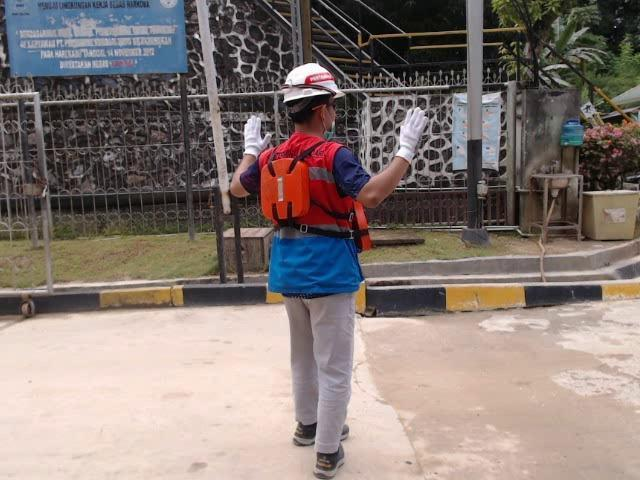vest: (258, 156, 317, 222)
